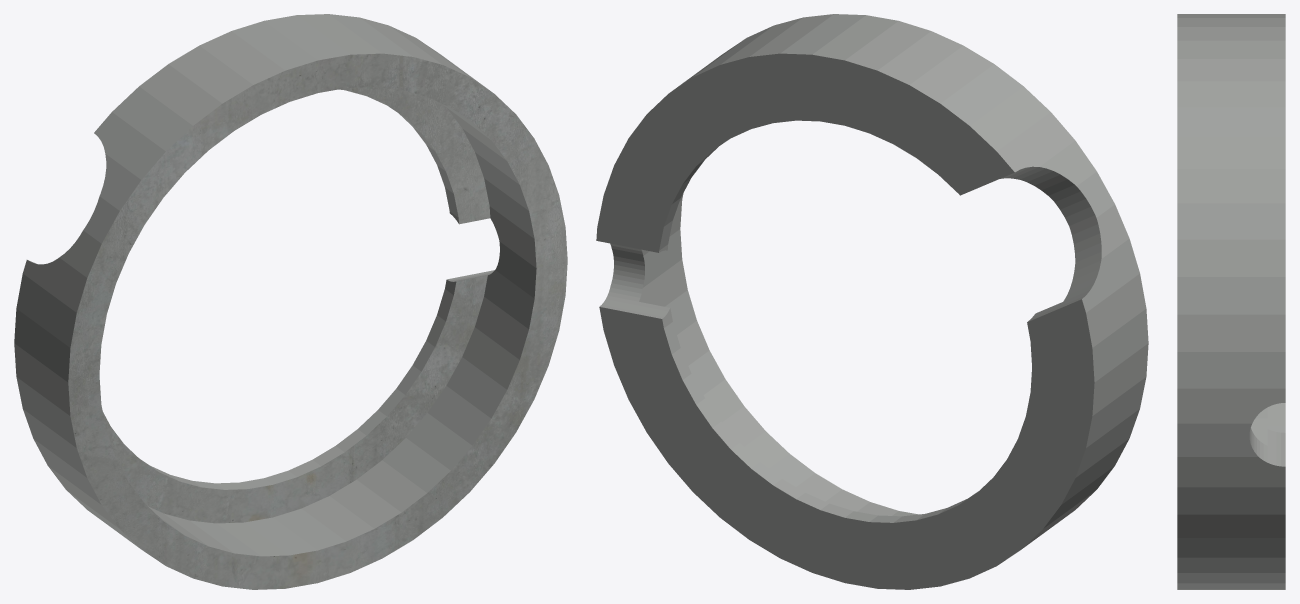
The model's file is pool_007.obj.
The picture shows the model from 3 angles, left to right: view 1: azimuth 30°, elevation 25°; view 2: azimuth 150°, elevation 25°; view 3: azimuth 270°, elevation 25°; orthographic projection.
Size of the model in its own units: 16 by 16 by 3.
